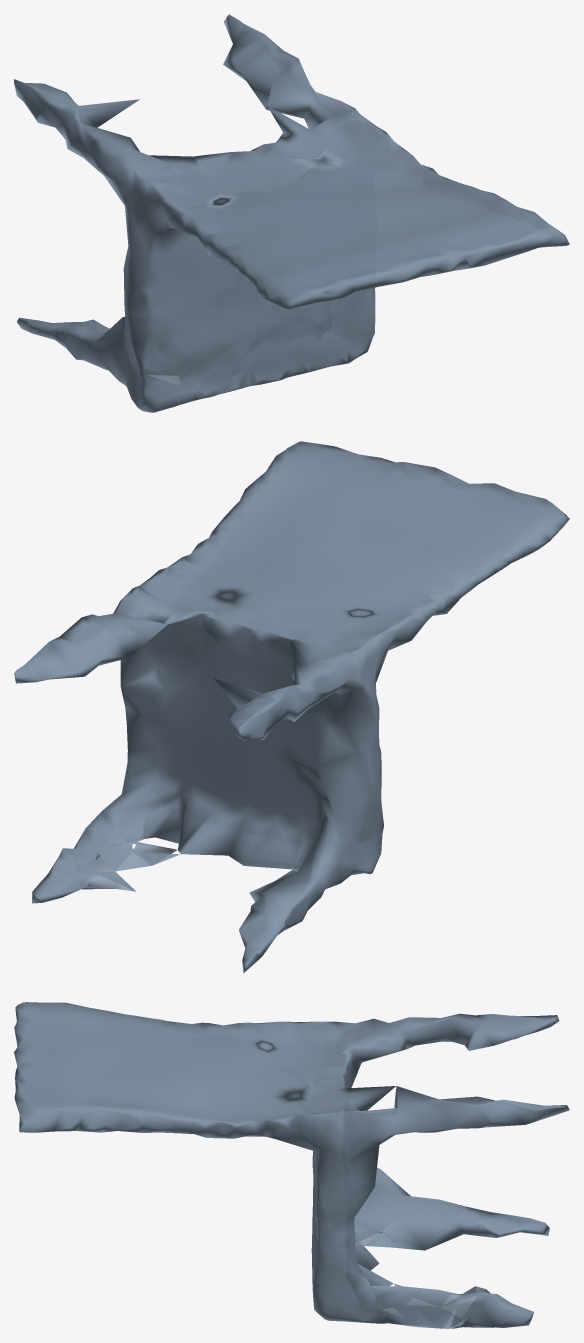
Rendered from chair_0477_recon.obj.
The picture shows the model from 3 angles, top to bottom: view 1: azimuth 30°, elevation 25°; view 2: azimuth 150°, elevation 25°; view 3: azimuth 270°, elevation 25°; orthographic projection. The views are drawn at different scales.
Bounding box in the file's own units: 0.881 × 0.7704 × 1.68.
